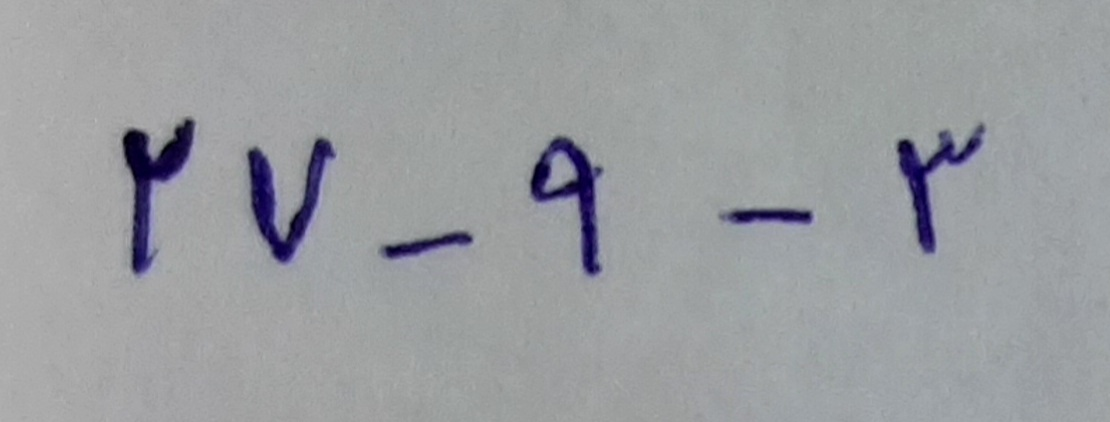character: (897, 122, 987, 257), (245, 137, 335, 266), (124, 120, 194, 276), (529, 135, 606, 276), (383, 232, 475, 261), (722, 206, 815, 226)
